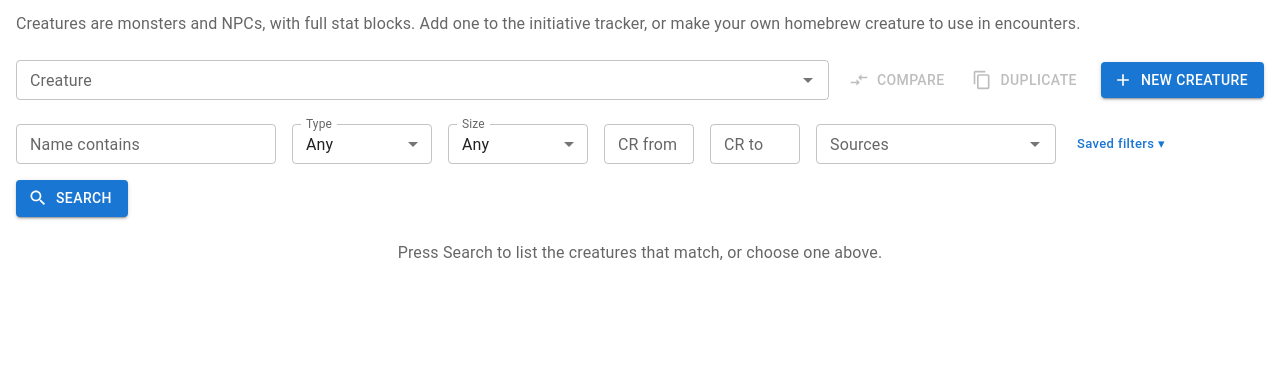
Test case: listing creatures as a table › narrows by type and a range of challenge ratings
The width and height of the screenshot is (1280, 384).
Select "Dragon" in the dropdown labelled "Type" at {"x": 362, "y": 144}, box left=292, top=124, right=432, bottom=164
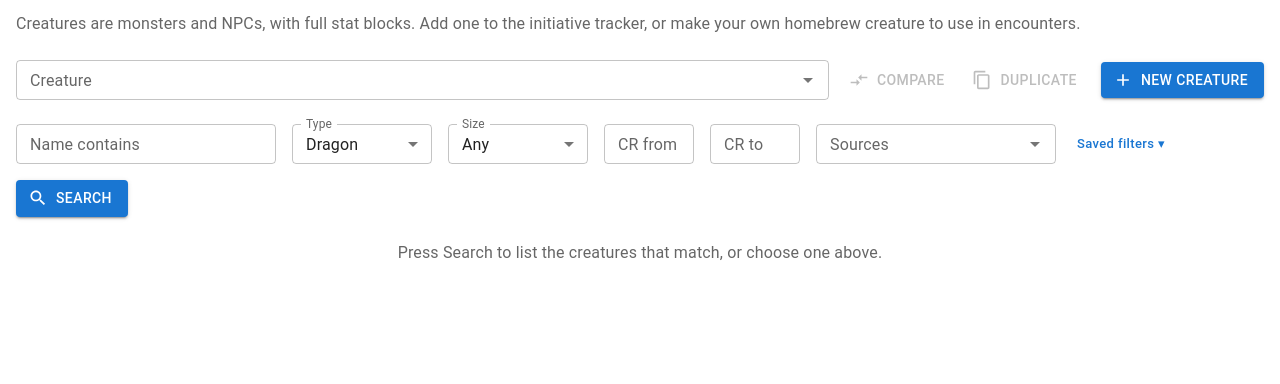
Type "3" into the field labelled "CR from" at {"x": 649, "y": 144}, box left=604, top=124, right=694, bottom=164
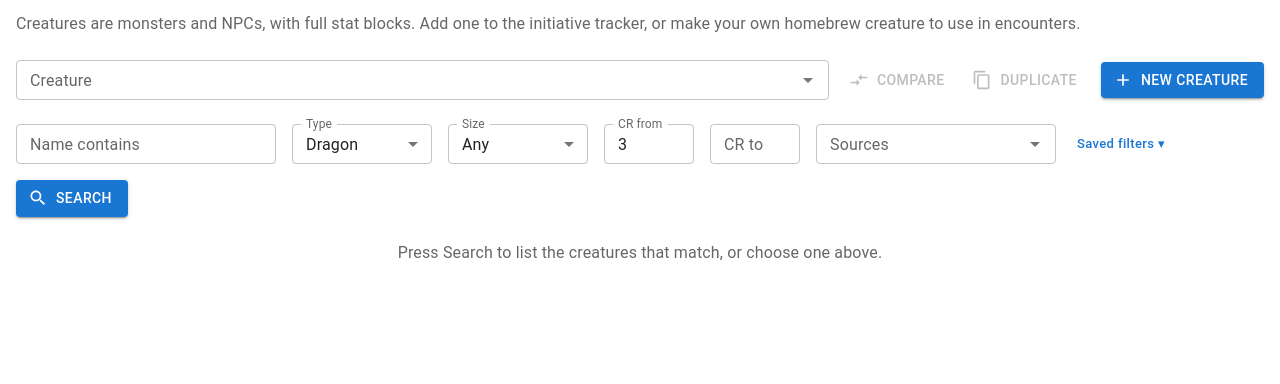
Type "10" into the field labelled "CR to" at {"x": 755, "y": 144}, box left=710, top=124, right=800, bottom=164
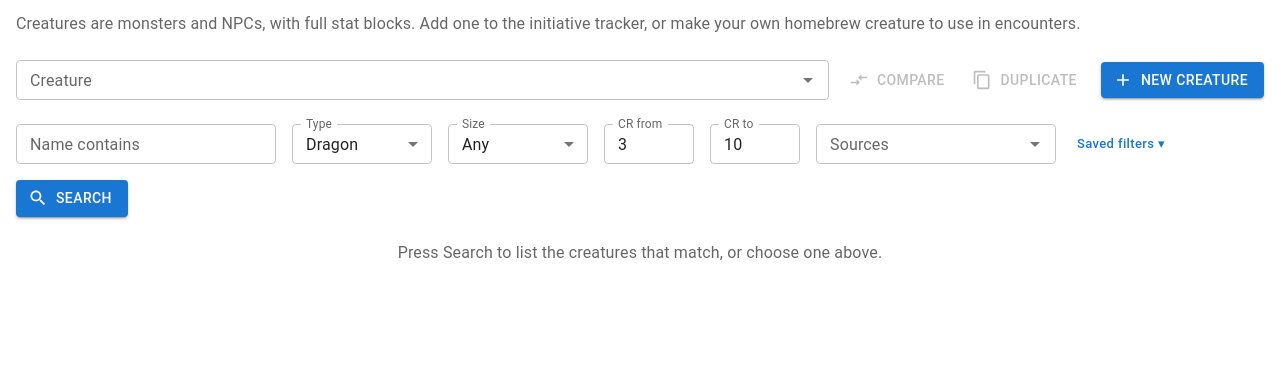
Click the button "Search" at {"x": 72, "y": 198}, box left=16, top=180, right=128, bottom=216
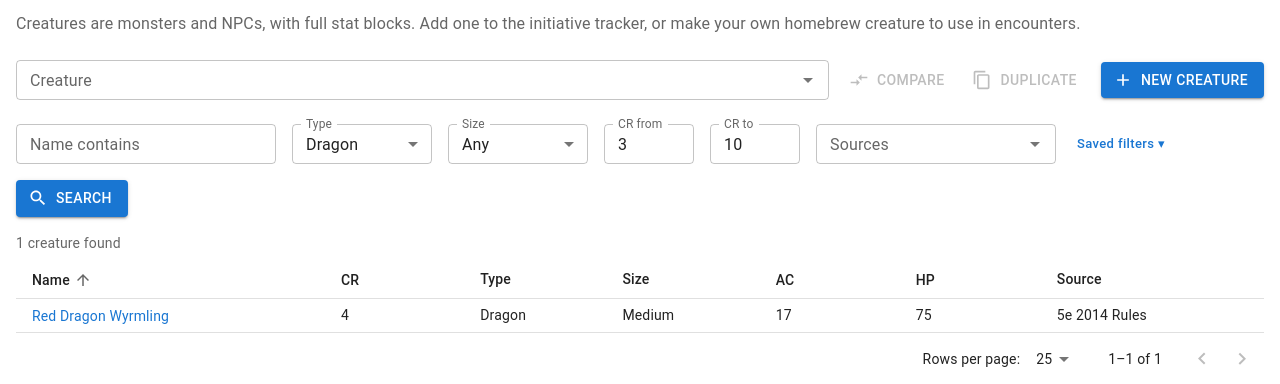
Result: the table named "Creature results" is shown at left=16, top=260, right=1264, bottom=333
